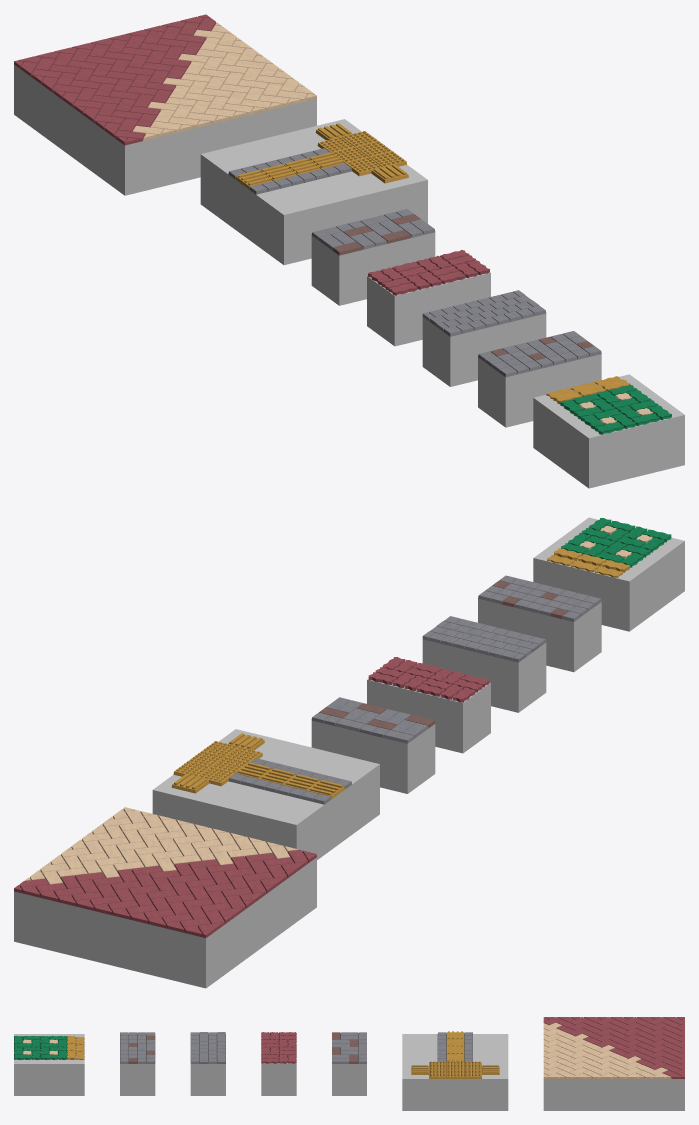
Rendered from streetBlock.obj.
3 views of the same model, one above another, from view 1: azimuth 30°, elevation 25°; view 2: azimuth 150°, elevation 25°; view 3: azimuth 270°, elevation 25° (orthographic). The views are drawn at different scales.
Parts seen in each view (by area): view 1: minecraft_wool_colored_black_-1, minecraft_snow_-5613474, minecraft_snow_-403285, minecraft_snow_-7171436, minecraft_snow_-2645438, minecraft_snow_-15166887, minecraft_snow_-7574943; view 2: minecraft_wool_colored_black_-1, minecraft_snow_-5613474, minecraft_snow_-7171436, minecraft_snow_-403285, minecraft_snow_-2645438, minecraft_snow_-15166887, minecraft_snow_-7574943; view 3: minecraft_wool_colored_black_-1, minecraft_snow_-5613474, minecraft_snow_-403285, minecraft_snow_-7171436, minecraft_snow_-2645438, minecraft_snow_-15166887, minecraft_snow_-7574943.
Part boxes in pixels (bbox=[...]): minecraft_wool_colored_black_-1: bbox=[14, 64, 684, 488]; minecraft_snow_-5613474: bbox=[14, 14, 489, 294]; minecraft_snow_-403285: bbox=[132, 22, 653, 424]; minecraft_snow_-7171436: bbox=[228, 148, 601, 377]; minecraft_snow_-2645438: bbox=[235, 123, 630, 402]; minecraft_snow_-15166887: bbox=[560, 384, 671, 433]; minecraft_snow_-7574943: bbox=[332, 214, 593, 360]; minecraft_wool_colored_black_-1: bbox=[14, 517, 684, 988]; minecraft_snow_-5613474: bbox=[14, 657, 489, 937]; minecraft_snow_-7171436: bbox=[228, 575, 601, 804]; minecraft_snow_-403285: bbox=[24, 526, 652, 884]; minecraft_snow_-2645438: bbox=[171, 548, 629, 799]; minecraft_snow_-15166887: bbox=[561, 518, 671, 566]; minecraft_snow_-7574943: bbox=[319, 580, 568, 730]; minecraft_wool_colored_black_-1: bbox=[14, 1034, 684, 1110]; minecraft_snow_-5613474: bbox=[261, 1017, 684, 1078]; minecraft_snow_-403285: bbox=[22, 1022, 671, 1078]; minecraft_snow_-7171436: bbox=[120, 1032, 472, 1063]; minecraft_snow_-2645438: bbox=[67, 1031, 499, 1078]; minecraft_snow_-15166887: bbox=[14, 1035, 66, 1059]; minecraft_snow_-7574943: bbox=[128, 1032, 358, 1063].
Size of the model in its own units: 4 by 1.09 by 19.
